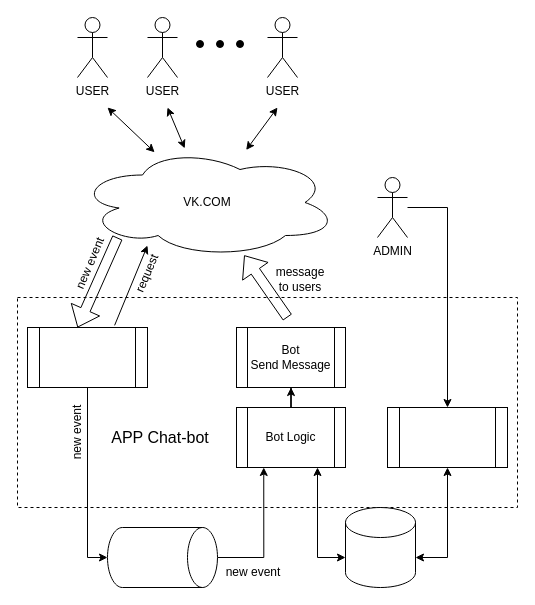
The diagram is 535 pixels wide and 605 high, and some of its shapes have lost their labels. Each missing label, with the centre of its shape:
Admin API: (x=447, y=437)
Bot Long Poll: (x=87, y=357)
DB PostgeSQL: (x=380, y=547)
Message broker RabbitMQ: (x=162, y=557)
